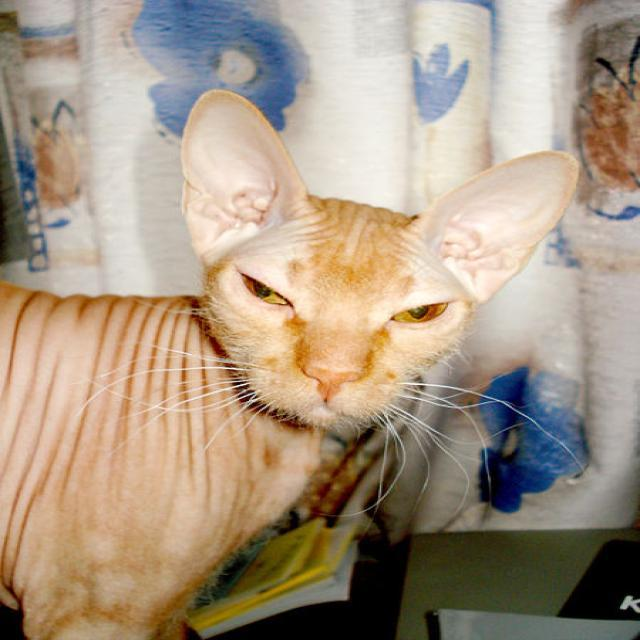Sphynx: (155, 86, 595, 431)
